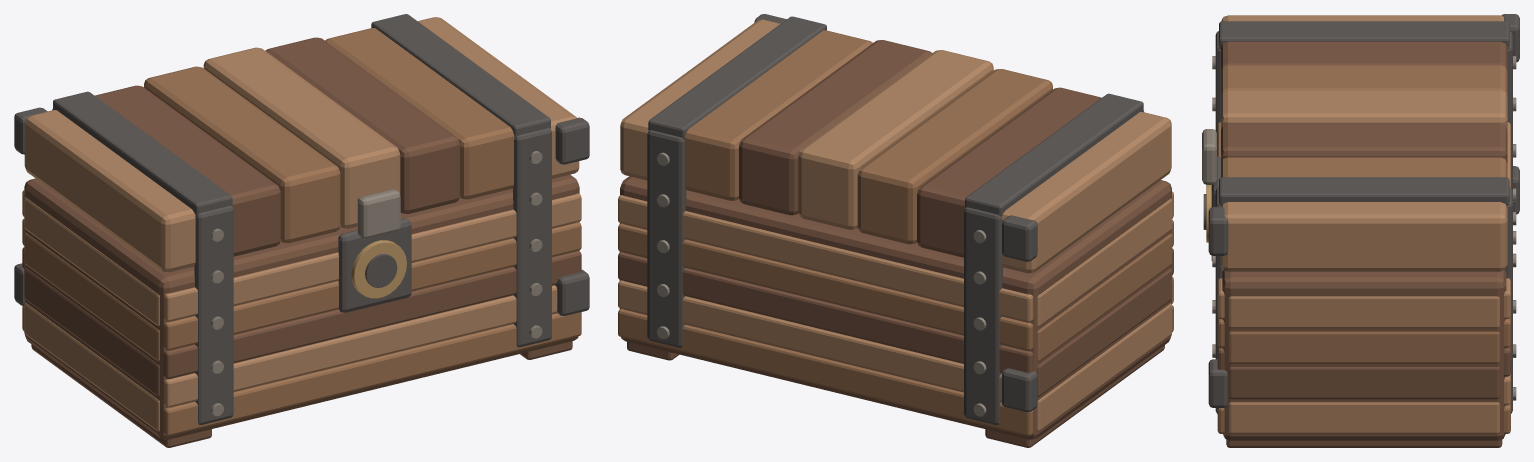
File: strongbox.glb
3 views of the same model, side by side, from view 1: azimuth 30°, elevation 25°; view 2: azimuth 150°, elevation 25°; view 3: azimuth 270°, elevation 25° (orthographic).
Parts seen in each view (by area): view 1: Strongbox edge-worn oak, Strongbox tarred oak, Strongbox weathered oak, Strongbox blackened iron, Strongbox rubbed iron, Strongbox old brass; view 2: Strongbox edge-worn oak, Strongbox tarred oak, Strongbox weathered oak, Strongbox blackened iron, Strongbox rubbed iron; view 3: Strongbox edge-worn oak, Strongbox tarred oak, Strongbox weathered oak, Strongbox blackened iron, Strongbox rubbed iron.
Boxes of the visible parts, x1,y1,x2,y2 form: Strongbox edge-worn oak: (22, 17, 581, 431); Strongbox tarred oak: (22, 37, 581, 447); Strongbox weathered oak: (22, 28, 581, 435); Strongbox blackened iron: (14, 14, 589, 424); Strongbox rubbed iron: (211, 151, 542, 416); Strongbox old brass: (351, 240, 406, 298); Strongbox edge-worn oak: (618, 19, 1173, 431); Strongbox tarred oak: (618, 40, 1173, 447); Strongbox weathered oak: (618, 30, 1173, 436); Strongbox blackened iron: (647, 14, 1143, 425); Strongbox rubbed iron: (656, 152, 986, 416); Strongbox edge-worn oak: (1217, 15, 1510, 434); Strongbox tarred oak: (1217, 41, 1510, 447); Strongbox weathered oak: (1217, 65, 1510, 433); Strongbox blackened iron: (1203, 14, 1519, 413); Strongbox rubbed iron: (1202, 56, 1516, 400).
Bounding box in the file's own units: 1.09 × 0.605 × 0.7025.
